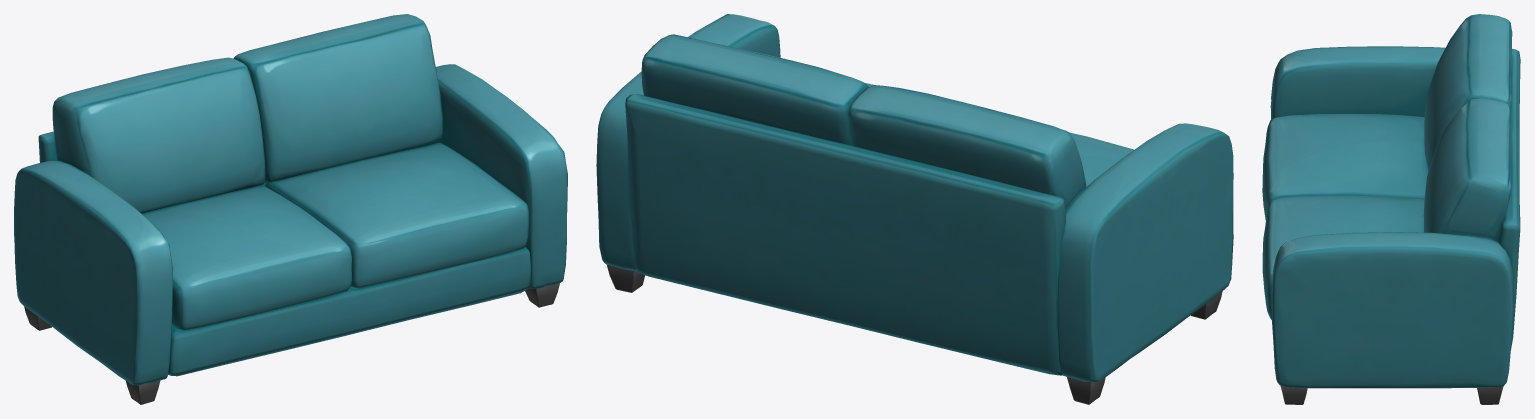
File: apartment-sofa.glb
The picture shows the model from 3 angles, left to right: view 1: azimuth 30°, elevation 25°; view 2: azimuth 150°, elevation 25°; view 3: azimuth 270°, elevation 25°; orthographic projection. The views are drawn at different scales.
Parts seen in each view (by area): view 1: geometry_0; view 2: geometry_0; view 3: geometry_0.
Part boxes in pixels (x1,y1,x2,y2): geometry_0: (14, 14, 567, 404); geometry_0: (596, 14, 1233, 404); geometry_0: (1262, 14, 1520, 404).
Bounding box in the file's own units: 1 × 0.4946 × 0.5371.
Materials: 1 (1 with a texture image).
